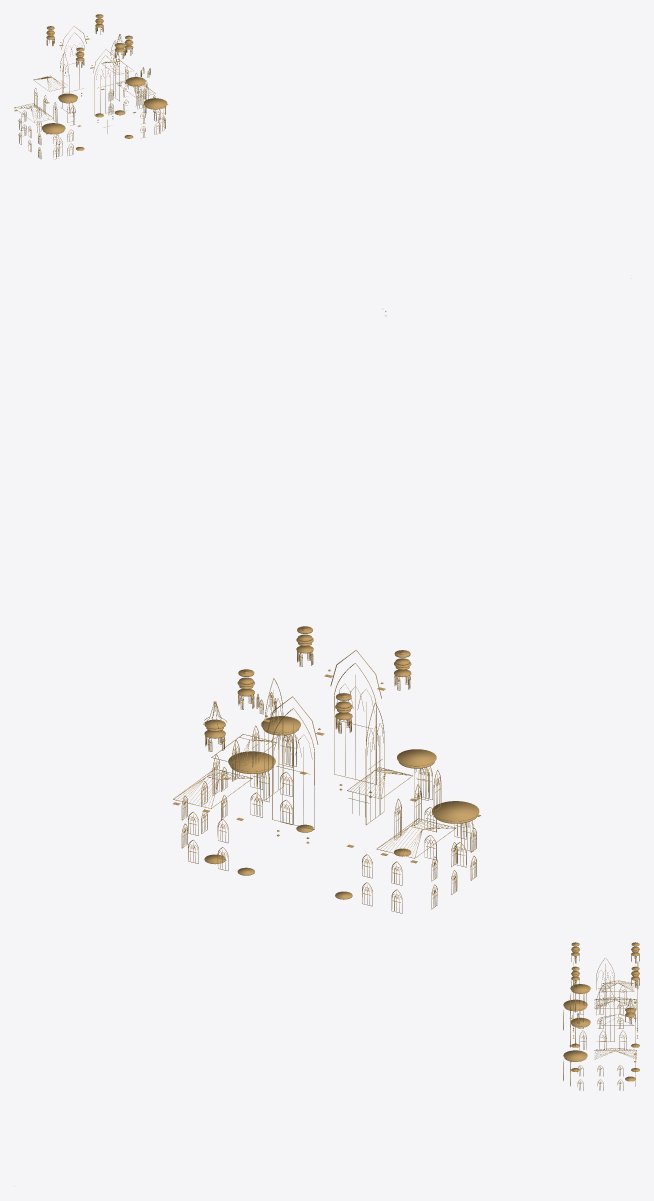
File: Neris-35.glb
3 views of the same model, one above another, from view 1: azimuth 30°, elevation 25°; view 2: azimuth 150°, elevation 25°; view 3: azimuth 270°, elevation 25° (orthographic). The views are drawn at different scales.
Parts seen in each view (by area): view 1: Aged Gold; view 2: Aged Gold; view 3: Aged Gold.
Part boxes in pixels (bbox=[...]): Aged Gold: bbox=[14, 14, 167, 159]; Aged Gold: bbox=[173, 626, 480, 913]; Aged Gold: bbox=[563, 942, 639, 1090].
Bounding box in the file's own units: 305 × 91.69 × 501.
